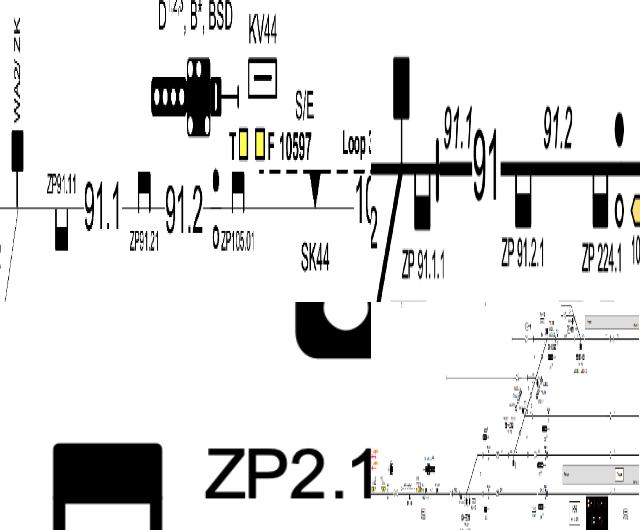mainsignal: (482, 433, 490, 441)
radzaehler: (43, 438, 171, 530), (470, 122, 505, 216), (513, 149, 535, 237), (411, 152, 432, 234), (590, 153, 610, 237), (50, 202, 74, 264), (135, 165, 154, 226), (229, 166, 249, 221), (436, 487, 439, 495), (425, 487, 427, 495), (460, 493, 462, 500)
trackjoint: (518, 427, 522, 438), (582, 336, 586, 344), (540, 352, 543, 362), (529, 392, 532, 401), (536, 489, 539, 498), (546, 448, 548, 461), (613, 334, 615, 346), (554, 336, 557, 344), (482, 488, 484, 499), (546, 488, 548, 499), (532, 412, 534, 421), (527, 450, 529, 459), (574, 336, 576, 344), (482, 451, 484, 458)
tracknumber: (79, 179, 127, 244), (162, 181, 208, 242), (496, 445, 500, 464), (392, 488, 398, 498), (608, 449, 612, 460), (533, 450, 537, 460), (563, 312, 567, 322), (524, 334, 528, 344), (496, 489, 500, 498), (450, 487, 453, 497), (609, 490, 612, 500), (516, 374, 520, 381), (610, 410, 612, 421), (609, 335, 611, 342)
weiche: (390, 42, 412, 179), (9, 125, 28, 230), (520, 406, 526, 422), (464, 488, 468, 508), (578, 333, 582, 352), (512, 451, 516, 470), (534, 373, 538, 388), (468, 487, 470, 509), (571, 314, 575, 324), (545, 327, 548, 340)
